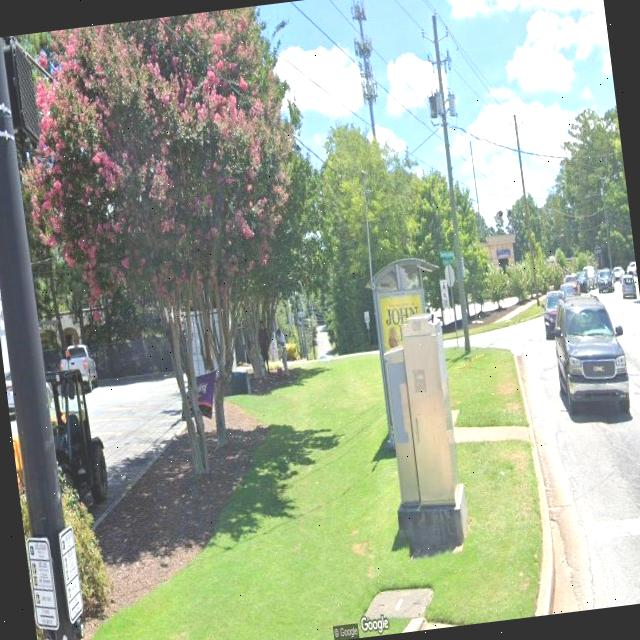shelter: (360, 254, 460, 452)
